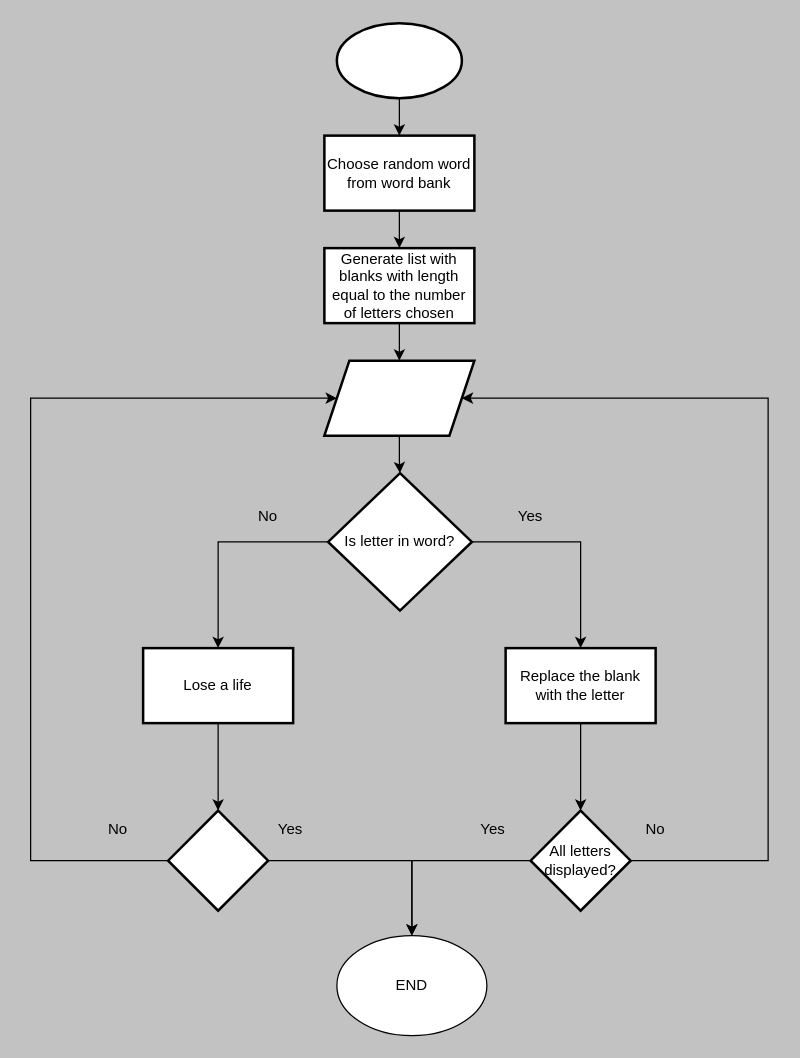
The diagram is 800 pixels wide and 1058 high, and some of its shapes have lost their labels. Here are the shapes that lost their labels. From the top down, the centre of each, then its label:
At [398,60]: "Start".
At [398,397]: "Guess a letter".
At [217,860]: "No more lives?".
